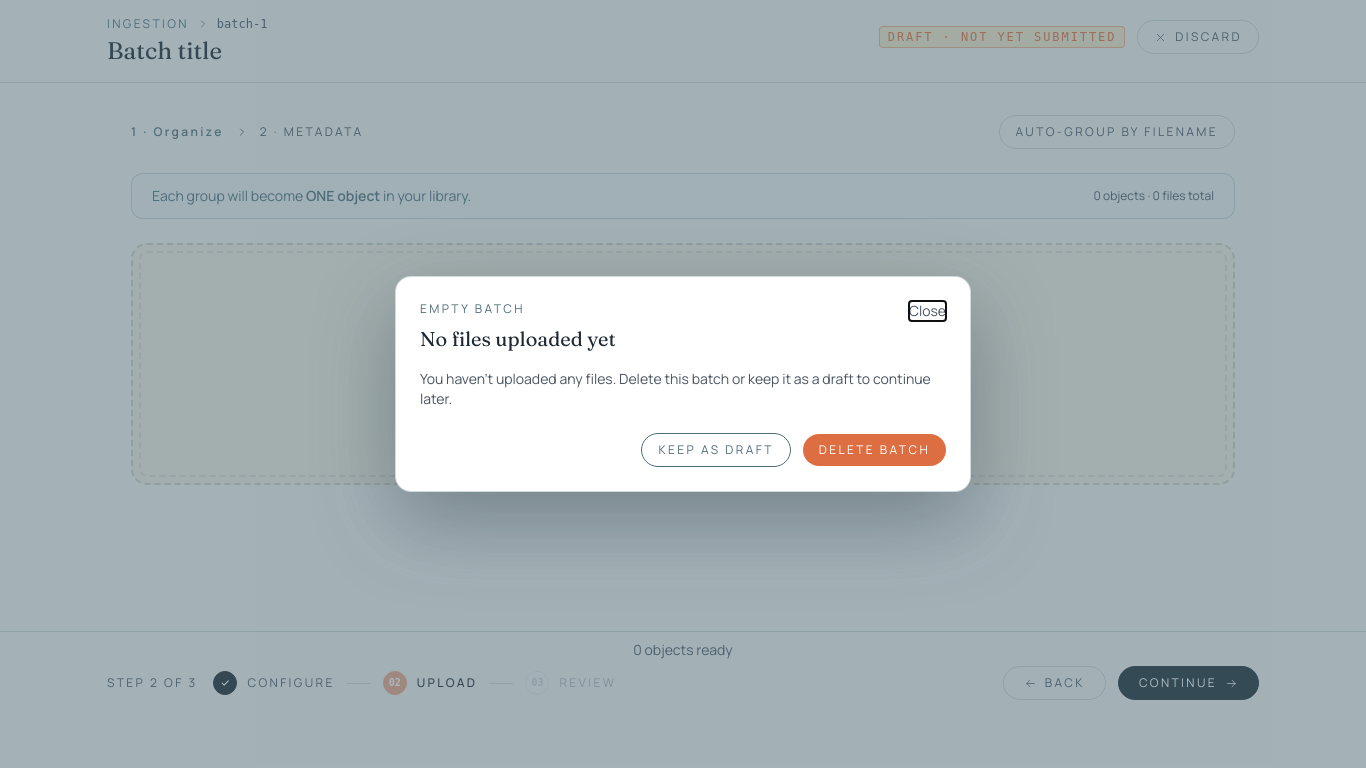
/ingestion/[batchId]/setup +page.svelte › keeps the deletion dialog open after a network failure
The image size is (1366, 768).
What coordinates should you click on to do the following:
click the button "Delete batch"
I would click on:
 (874, 450)
Its box is [803,434,946,466].
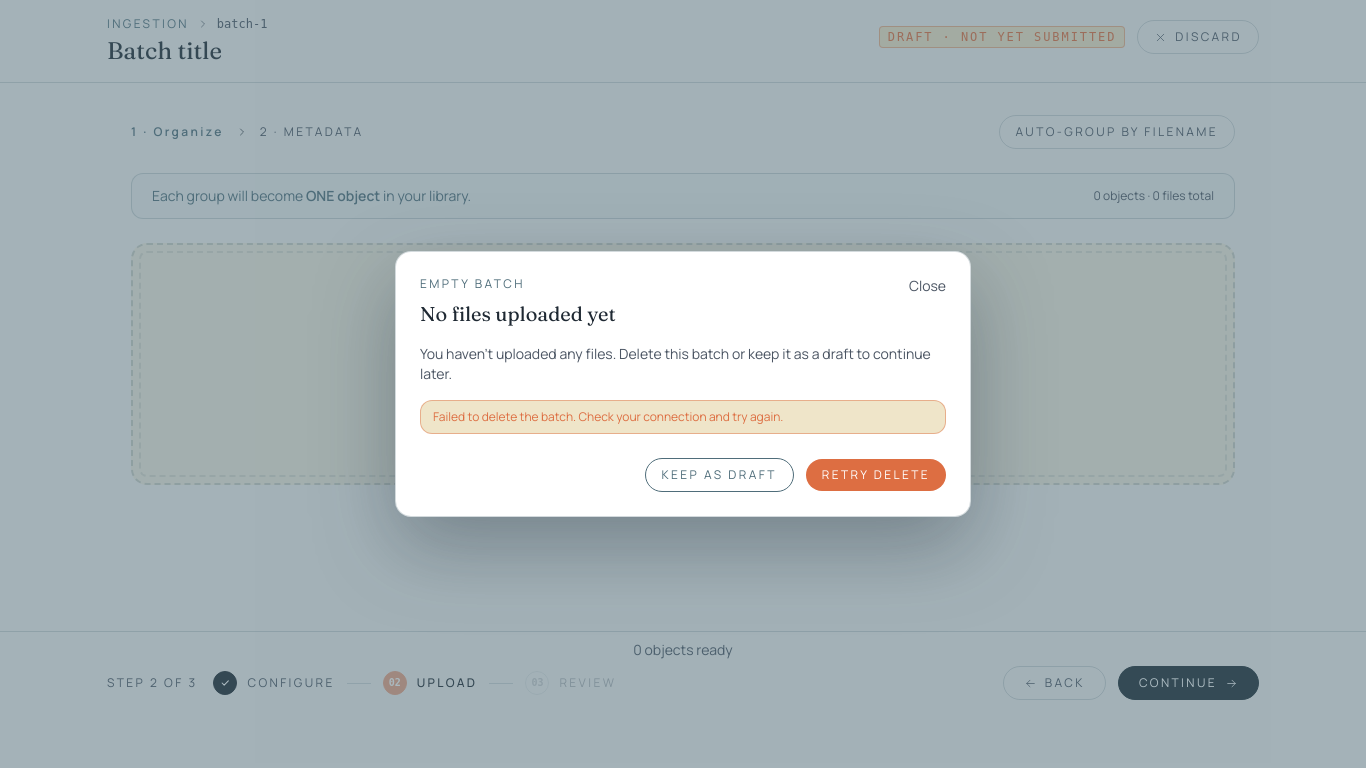
Now the message shows "Failed to delete the batch.", box [433,408,783,425]
